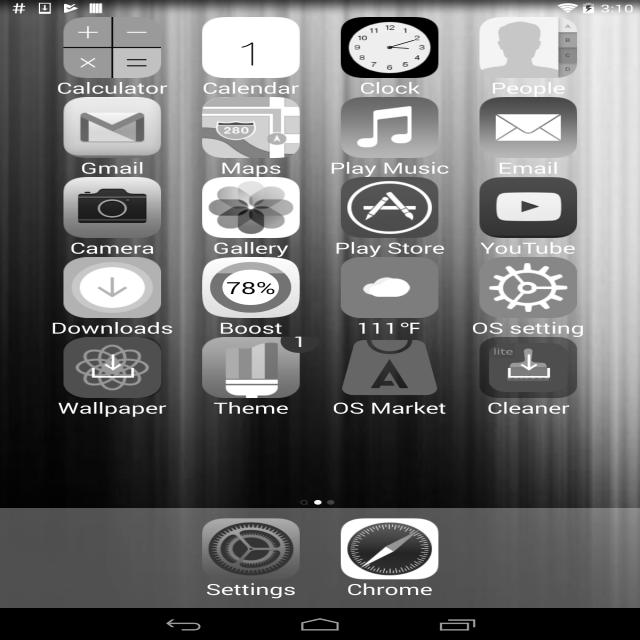ImageView: (332, 11, 472, 86), (197, 518, 301, 600), (202, 334, 314, 406), (55, 253, 166, 320), (202, 256, 314, 322), (478, 341, 598, 402), (332, 258, 446, 322), (474, 261, 582, 327), (341, 518, 446, 584), (213, 98, 321, 161), (192, 181, 314, 234), (476, 100, 567, 171), (483, 28, 598, 83), (57, 182, 177, 232), (337, 179, 452, 230), (337, 341, 432, 402), (66, 337, 160, 398), (347, 98, 432, 164), (58, 97, 170, 147), (213, 18, 297, 84), (64, 20, 159, 76), (478, 186, 565, 239)
